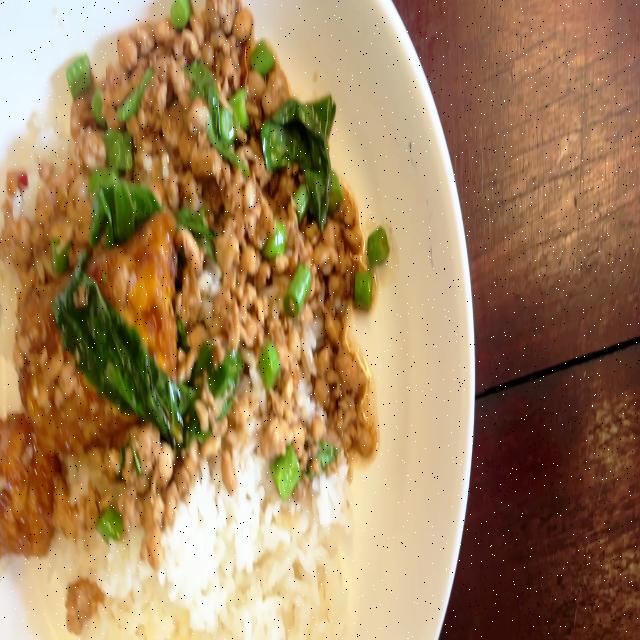fried_tofo: (29, 220, 171, 444), (0, 414, 47, 560)
minced_pork: (173, 0, 382, 463), (24, 4, 174, 222), (55, 448, 205, 534)
rice: (176, 496, 363, 640)
stir_fried_basil: (0, 0, 381, 640)
